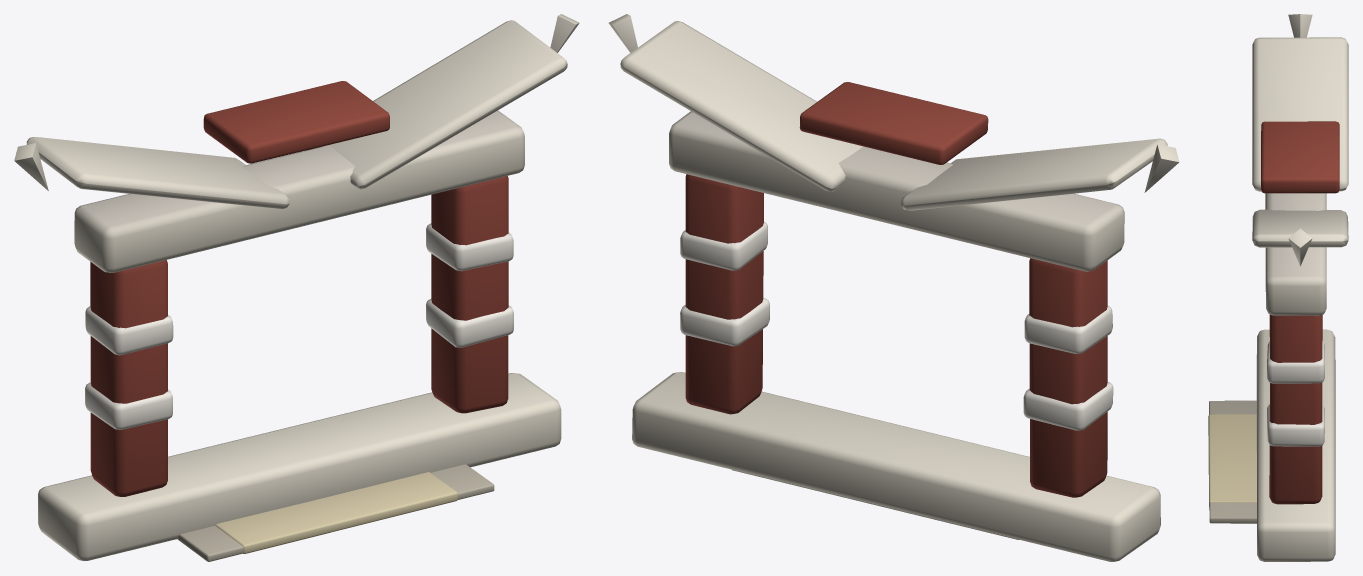
3 renders of one model, left to right at view 1: azimuth 30°, elevation 25°; view 2: azimuth 150°, elevation 25°; view 3: azimuth 270°, elevation 25°, orthographic. The views are drawn at different scales.
Visible parts, largest first — view 1: gate_b9565ea5; view 2: gate_b9565ea5; view 3: gate_b9565ea5.
Boxes of the visible parts, x1=… form: gate_b9565ea5: x1=14, y1=14, x2=579, y2=561; gate_b9565ea5: x1=608, y1=14, x2=1179, y2=561; gate_b9565ea5: x1=1208, y1=14, x2=1348, y2=561.
Size of the model in its own units: 6.31 by 4.37 by 1.61.
